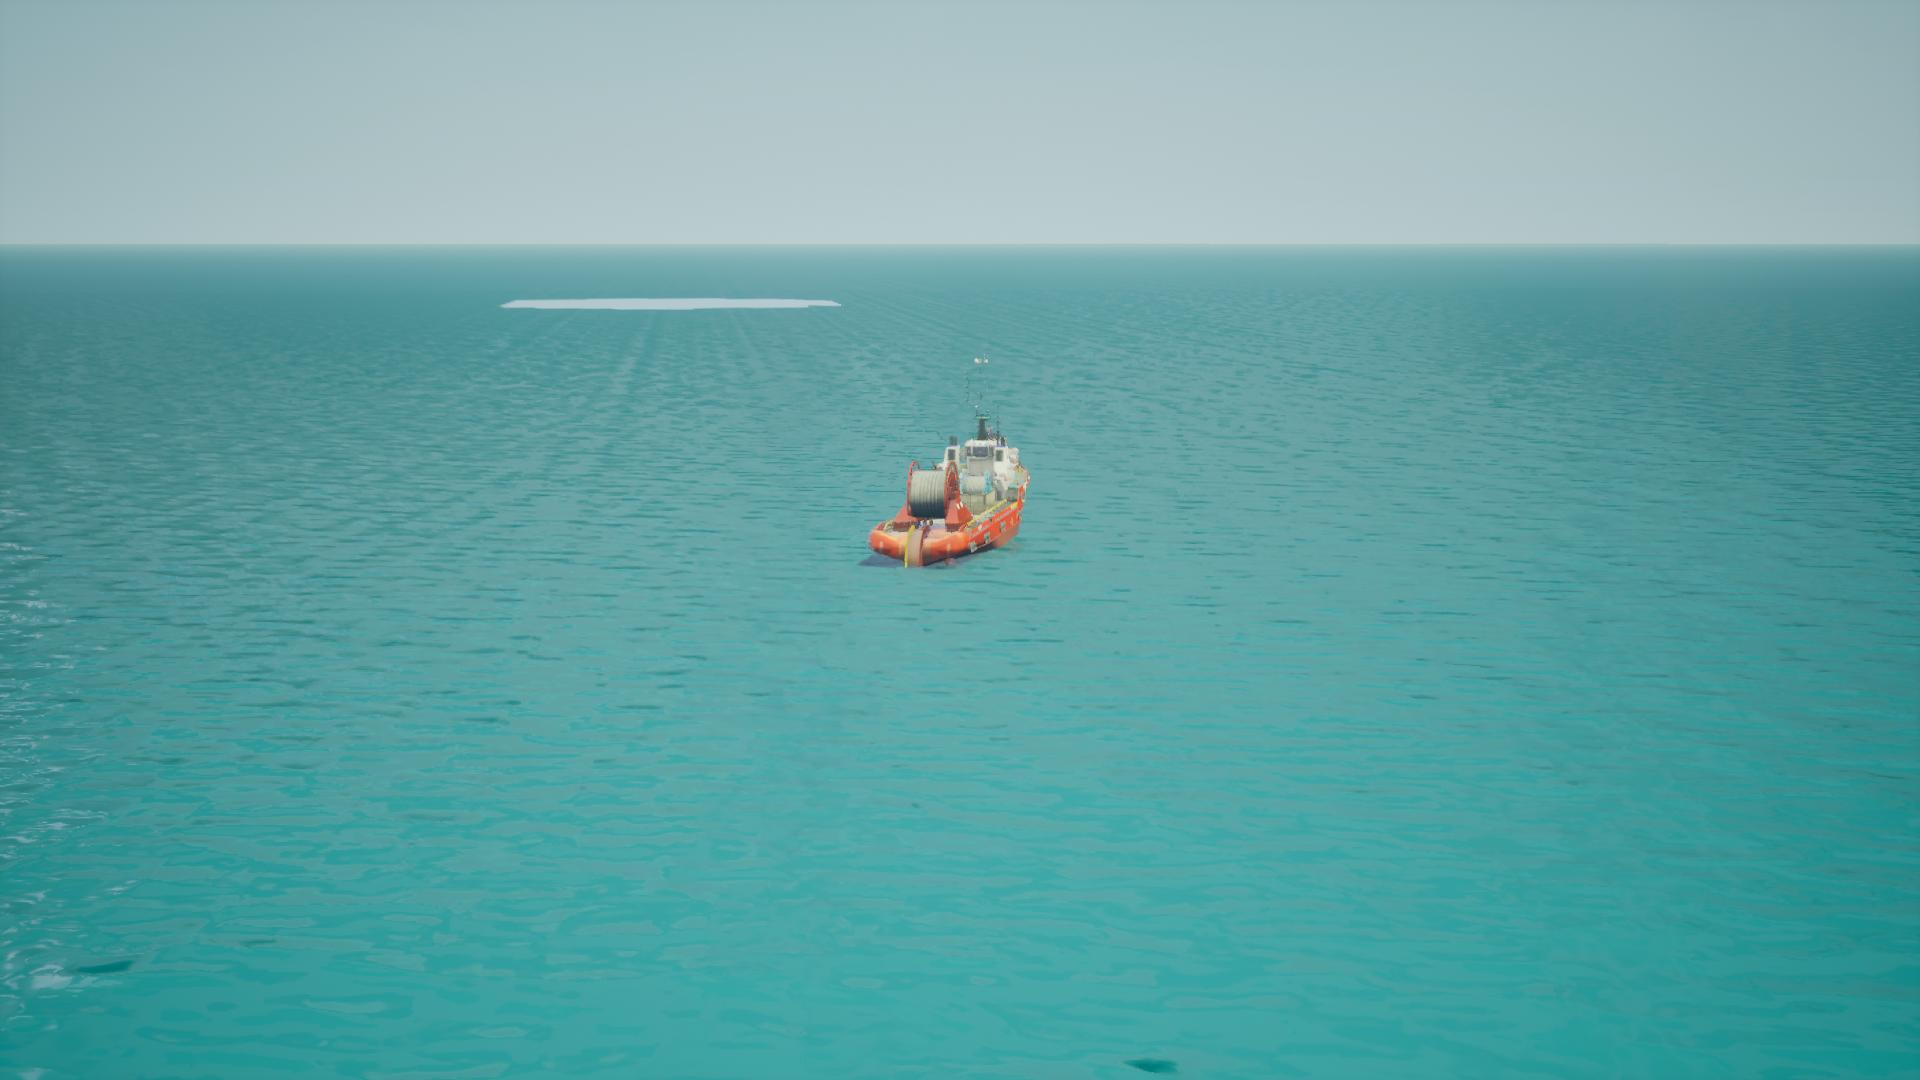Tug Boat: (866, 375, 1031, 572)
